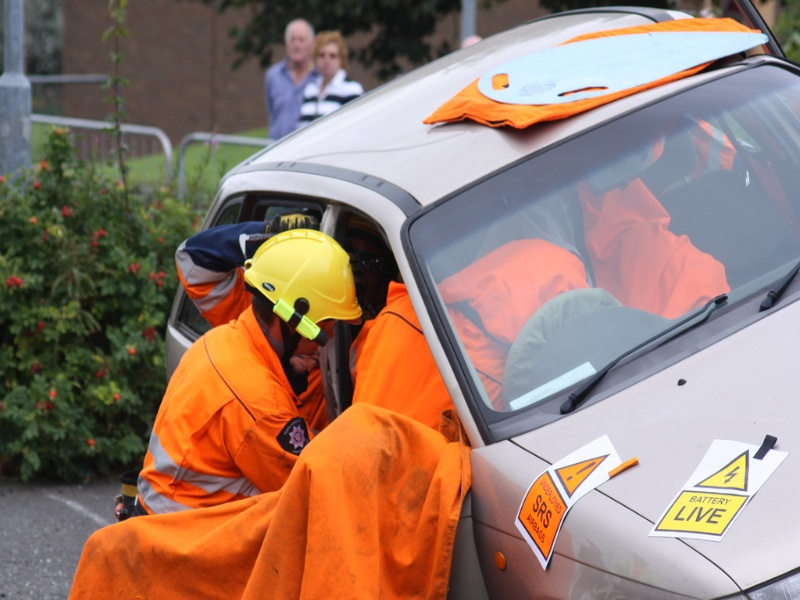helmet: (244, 229, 366, 329)
jacket: (153, 309, 310, 519)
